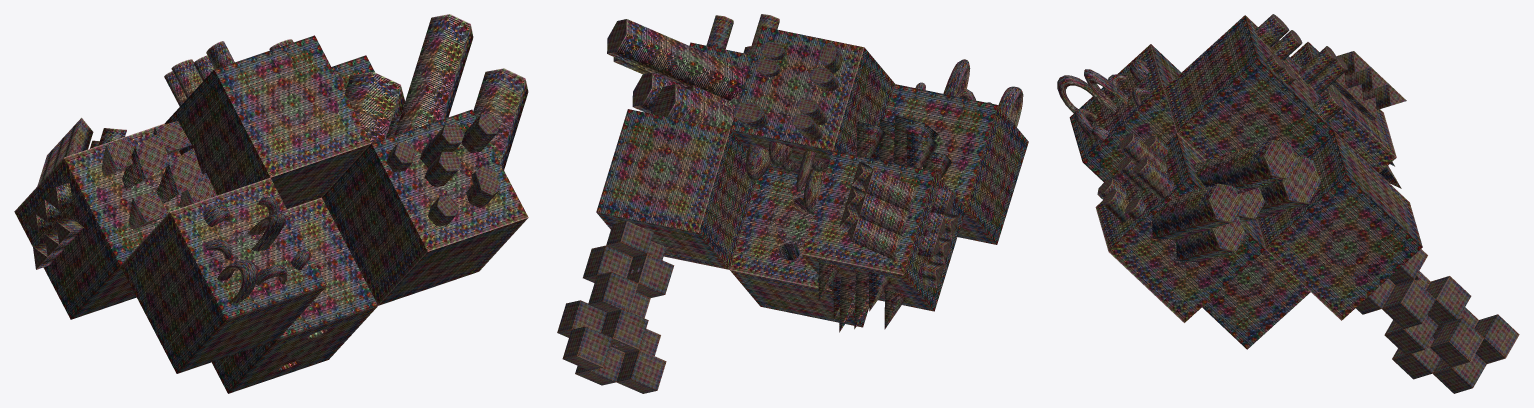
Rendered from Cube postRasta.obj.
The picture shows the model from 3 angles, left to right: view 1: azimuth 30°, elevation 25°; view 2: azimuth 150°, elevation 25°; view 3: azimuth 270°, elevation 25°; orthographic projection. The views are drawn at different scales.
Visible parts, largest first — view 1: objMesh; view 2: objMesh; view 3: objMesh.
Part boxes in pixels (x1,y1,x2,y2): objMesh: (14, 14, 528, 393); objMesh: (557, 14, 1028, 393); objMesh: (1057, 14, 1519, 393).
Bounding box in the file's own units: 396 × 308 × 413.
Materials: 1 (1 with a texture image).
